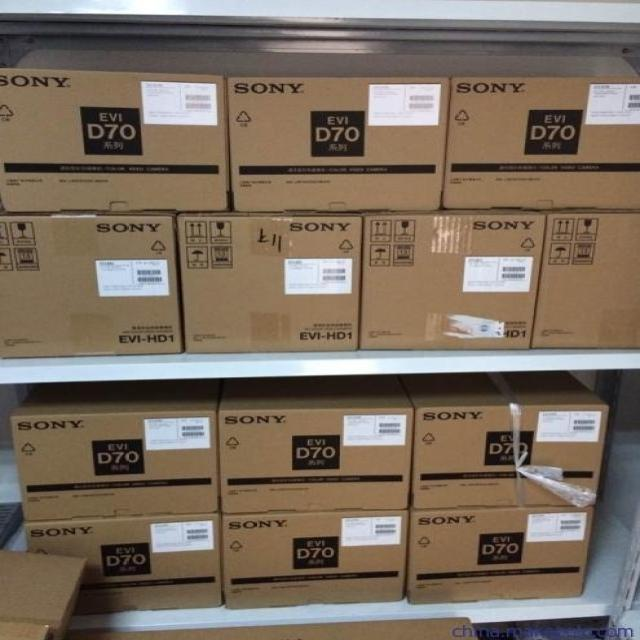box: (0, 67, 228, 215), (223, 77, 448, 210), (14, 381, 223, 522), (403, 371, 606, 512), (218, 376, 413, 515), (442, 77, 639, 211), (0, 213, 182, 358), (358, 212, 546, 350), (176, 212, 359, 353), (27, 515, 225, 615), (219, 511, 410, 612), (407, 508, 595, 604), (530, 212, 639, 349), (64, 617, 478, 639), (0, 548, 91, 639)
